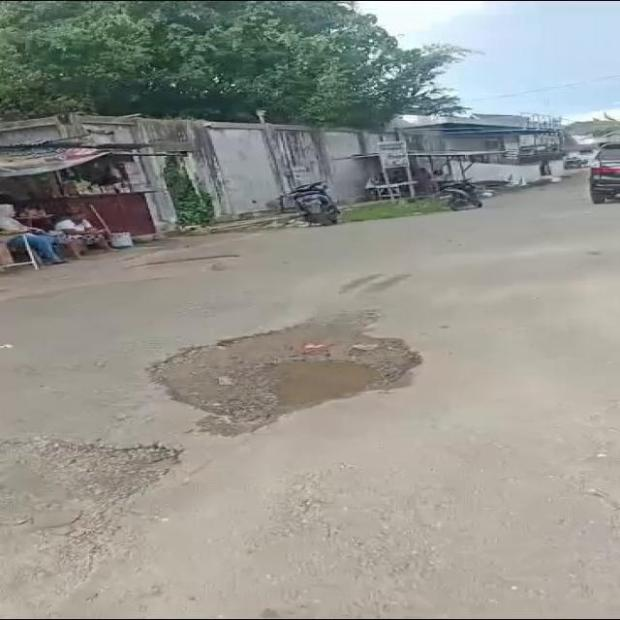lubang: (152, 313, 420, 435), (0, 438, 180, 539)
